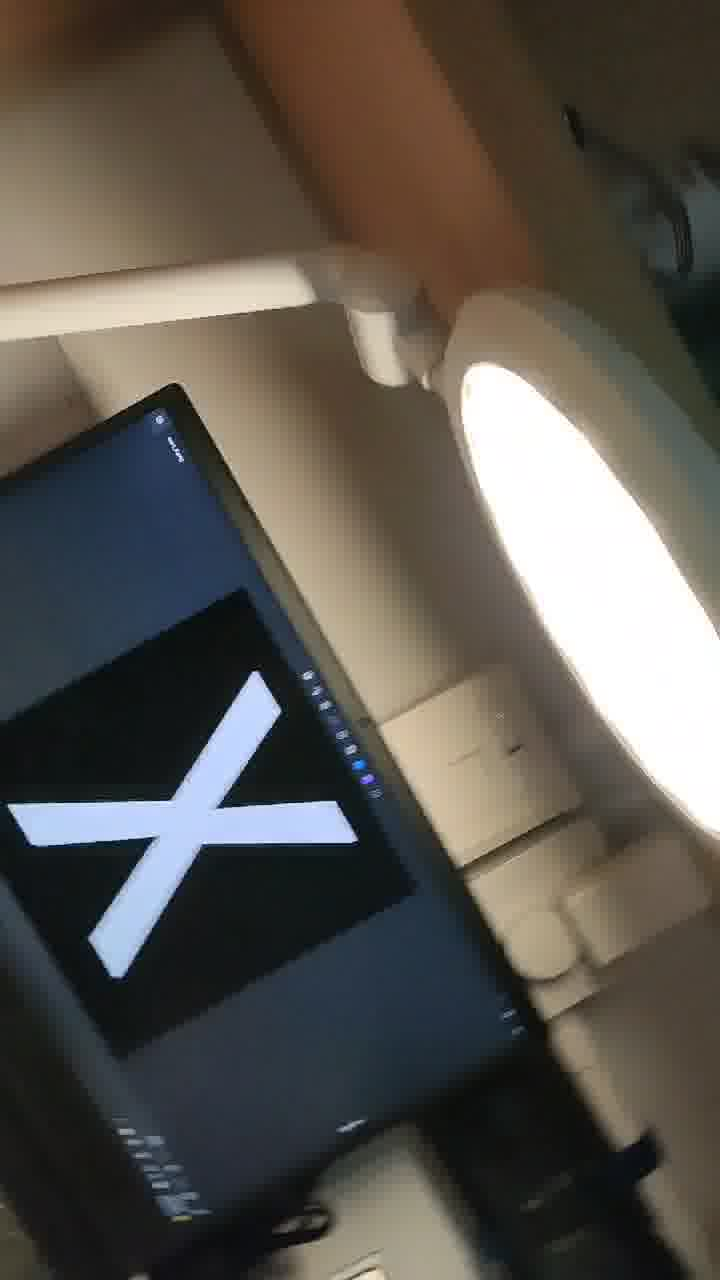X: (1, 631, 391, 976)
